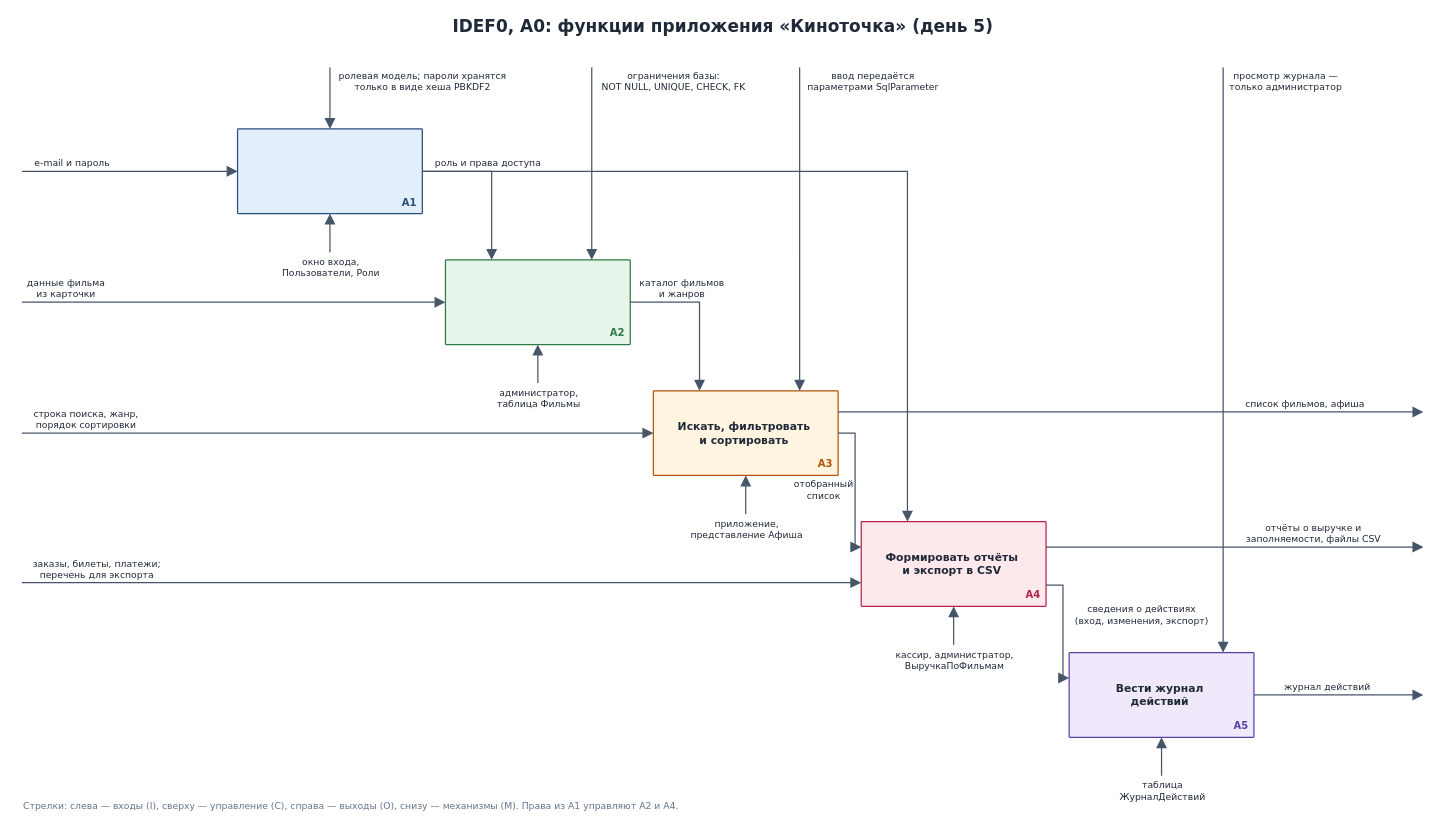
This 1447x828 diagram has some shape labels left out. The shapes that lost their labels are listed below. From the top down, each one's box as (x1, y1, x2, y2) in pixels, then its label:
(237, 128, 423, 214): Войти в систему и определить роль
(444, 259, 630, 345): Вести справочник фильмов
